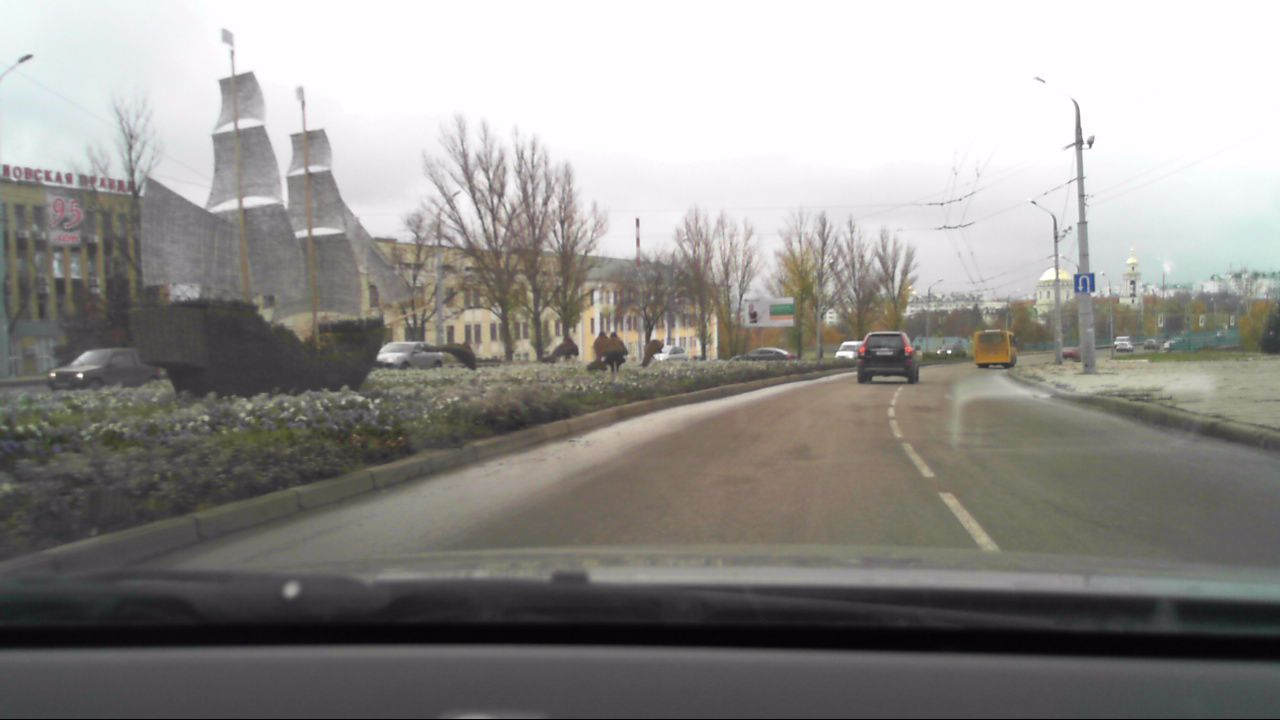U-turn: (1074, 274, 1095, 293)
